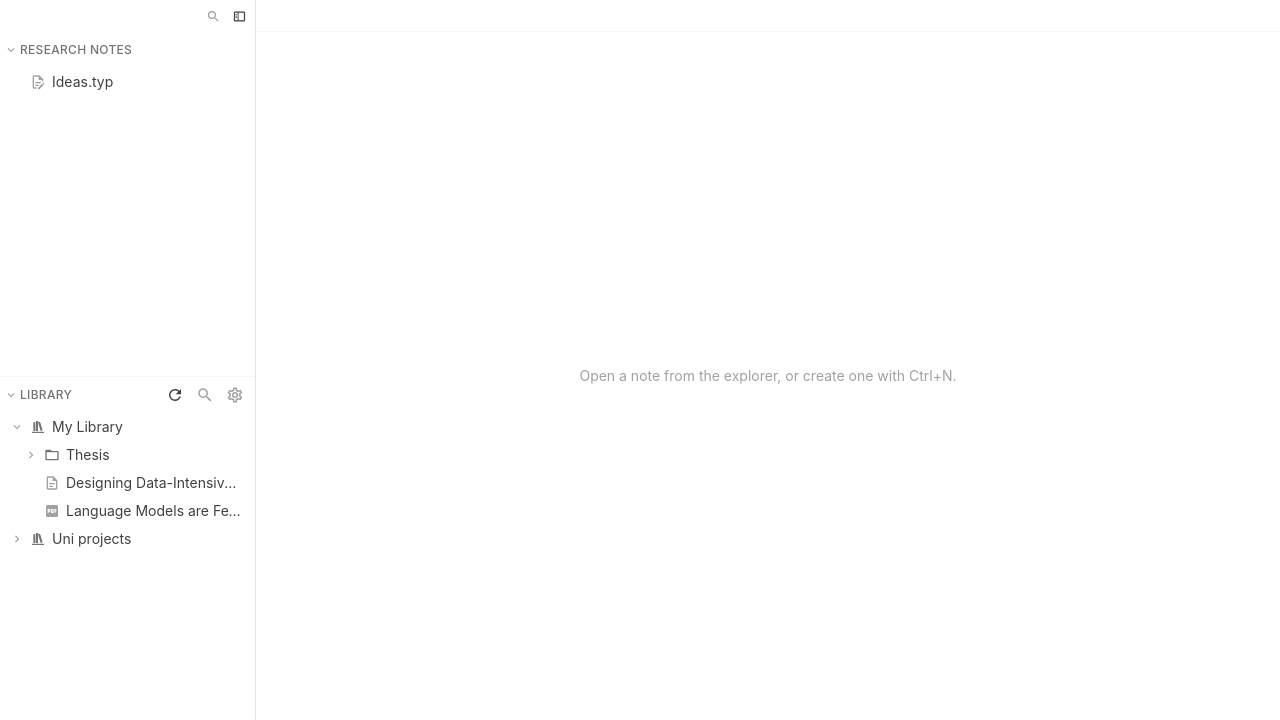
Test: The Library › group libraries come after it, folded
The width and height of the screenshot is (1280, 720).
Expected: the heading "Research Notes" is shown, left=4, top=40, right=161, bottom=60
Expected: the button "Kubernetes Scheduling" is not shown
Click the button "Uni projects". click: (128, 538)
box: left=6, top=524, right=249, bottom=552
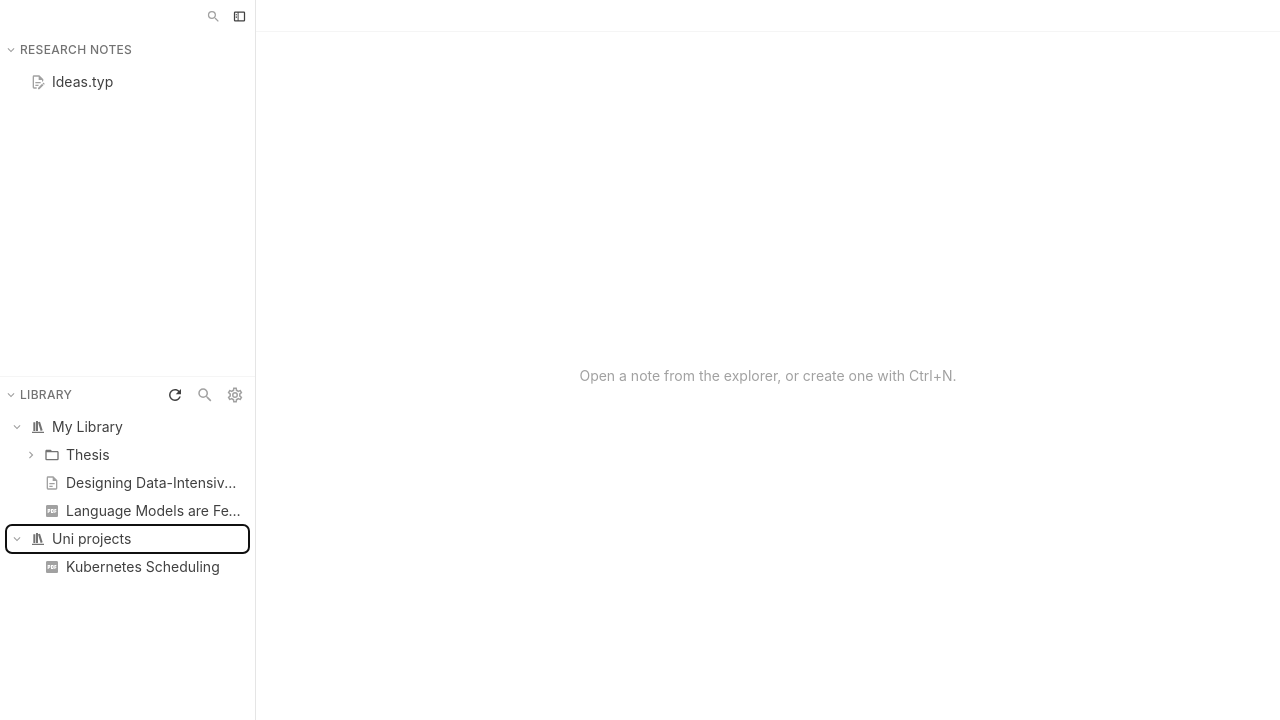
Expected: the button "Kubernetes Scheduling" is shown, left=6, top=552, right=249, bottom=580
